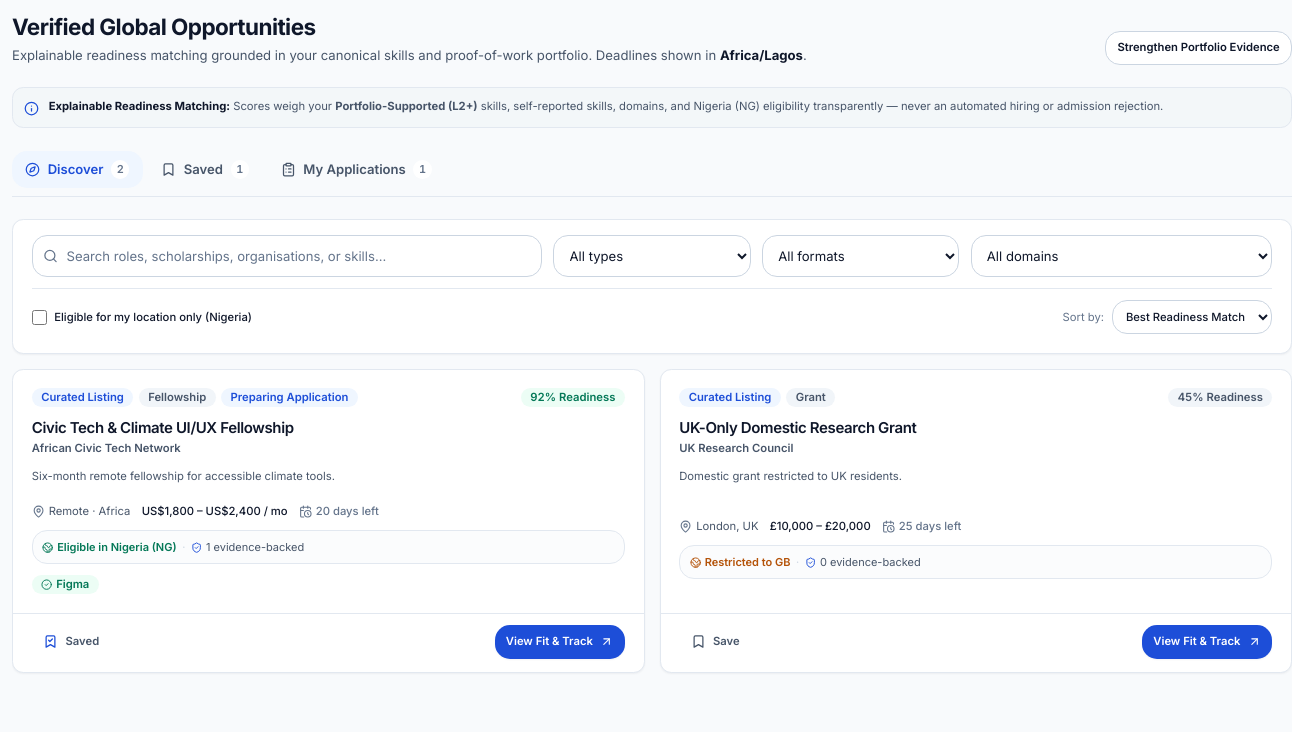
Scenario: M3 Verified Global Opportunities Workspace UI › renders explainable readiness scores, filters by eligibility, and switches across Saved & Applications tabs
Expected: the link "Civic Tech & Climate UI/UX Fellowship" is shown, [32,418,294,437]
Expected: the link "UK-Only Domestic Research Grant" is shown, [679,418,916,437]
// Filter to eligible-for-my-location only
Click the checkbox labelled "Eligible for my location only (Nigeria)". click: (39, 317)
box: [32,310,47,324]
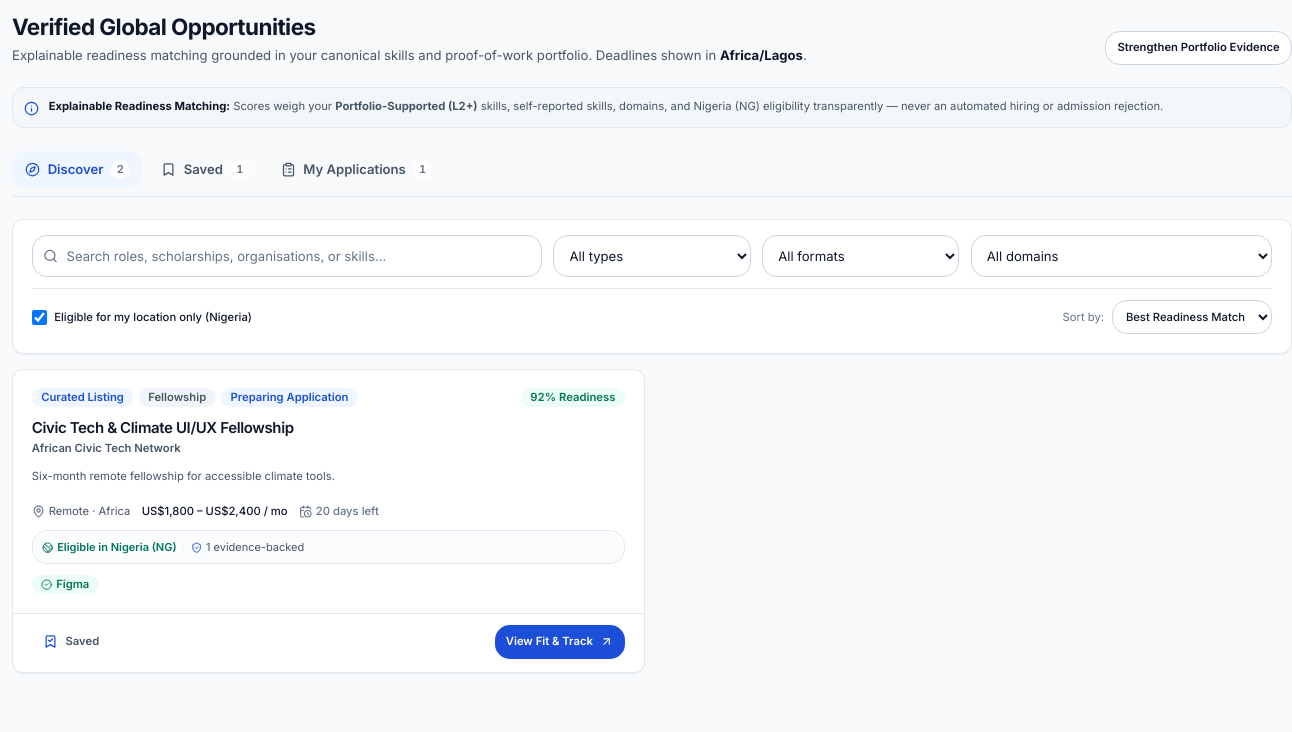
Expected: the link "Civic Tech & Climate UI/UX Fellowship" is shown, [32,418,294,437]
Expected: the link "UK-Only Domestic Research Grant" is gone
// Switch to My Applications tab
Click the tab "My Applications 1". click: (356, 170)
box: [268,151,445,188]
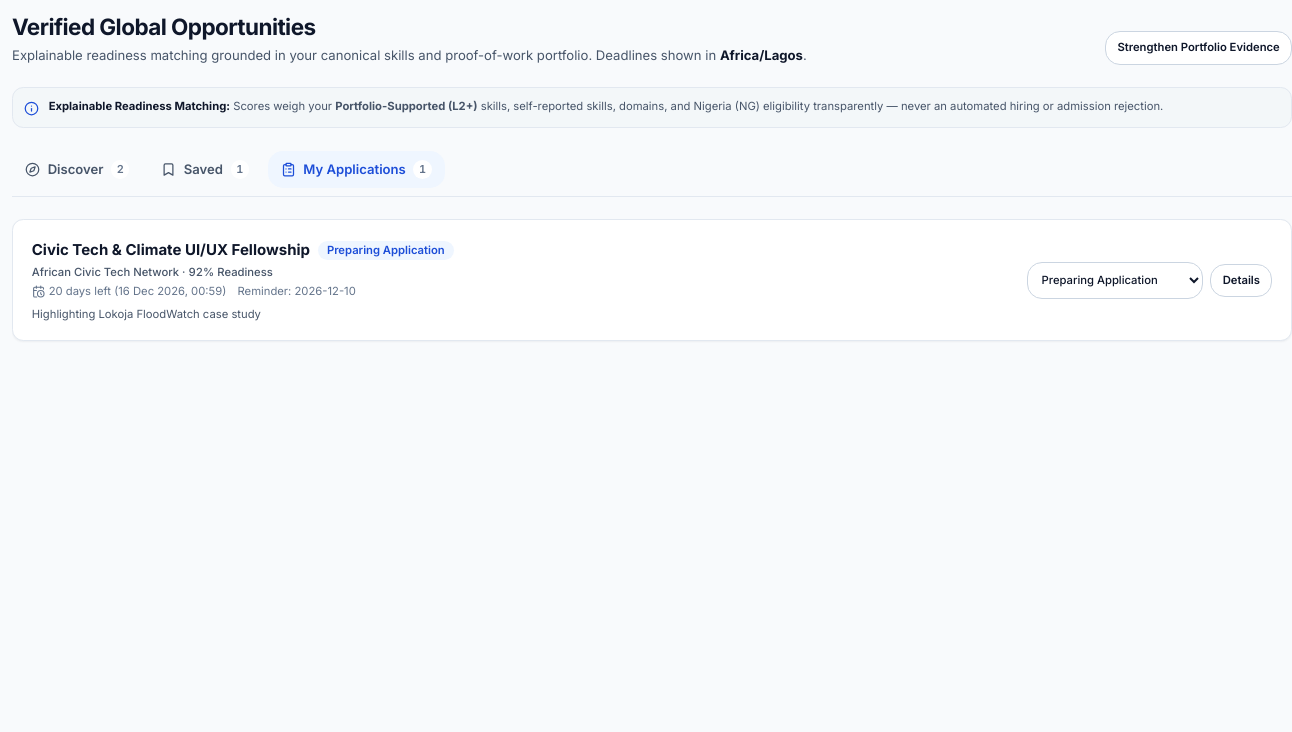
Expected: the text "Highlighting Lokoja FloodWatch case study" is shown, [32,307,261,321]
